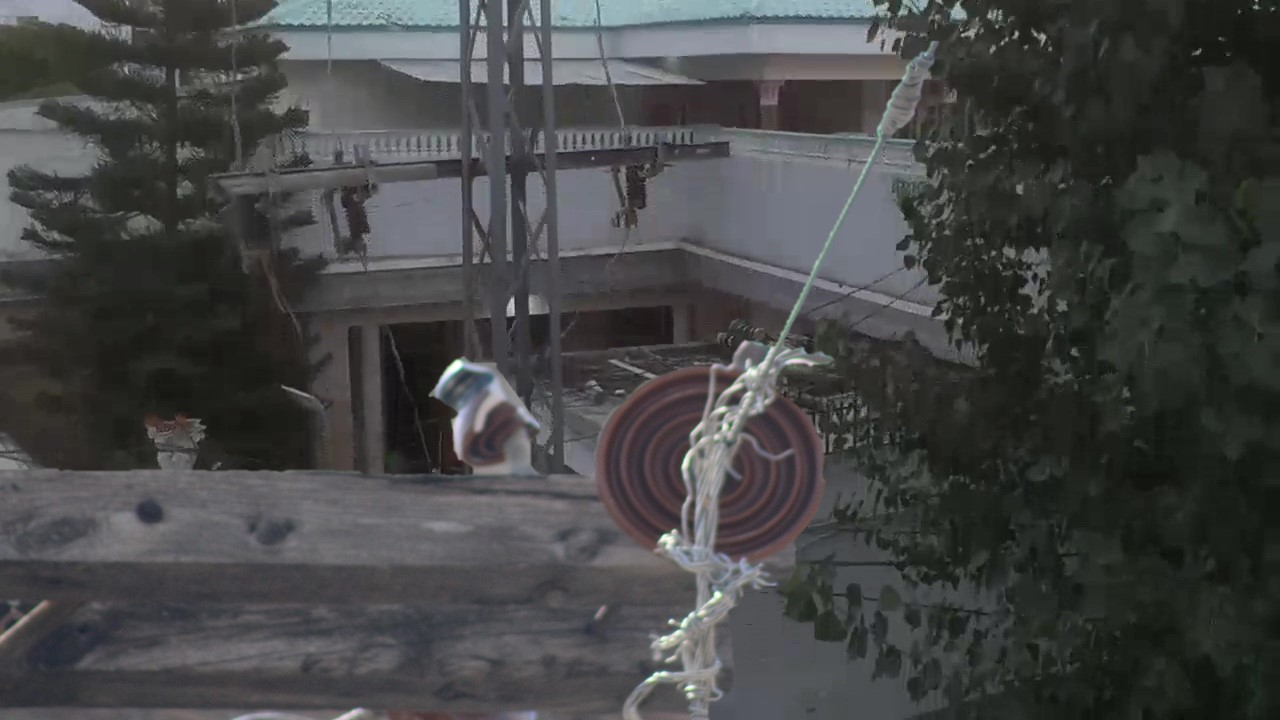defect_pin: (427, 347, 545, 477)
insulator_disc: (591, 361, 833, 570)
